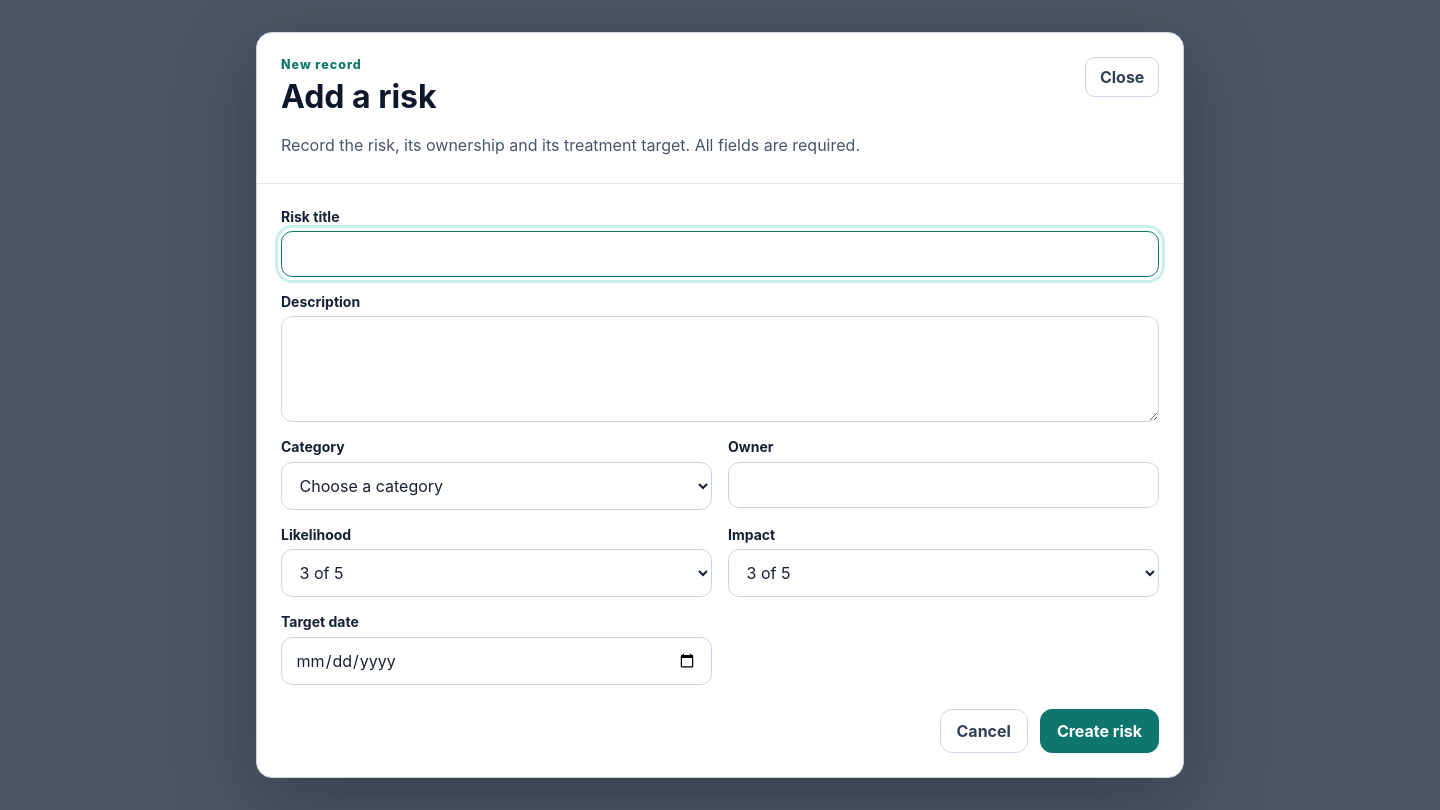
Scenario: RiskCreateDialog › reports invalid fields and focuses the first one
Click the button "Create risk": click(1099, 731) [1040, 709, 1159, 753]
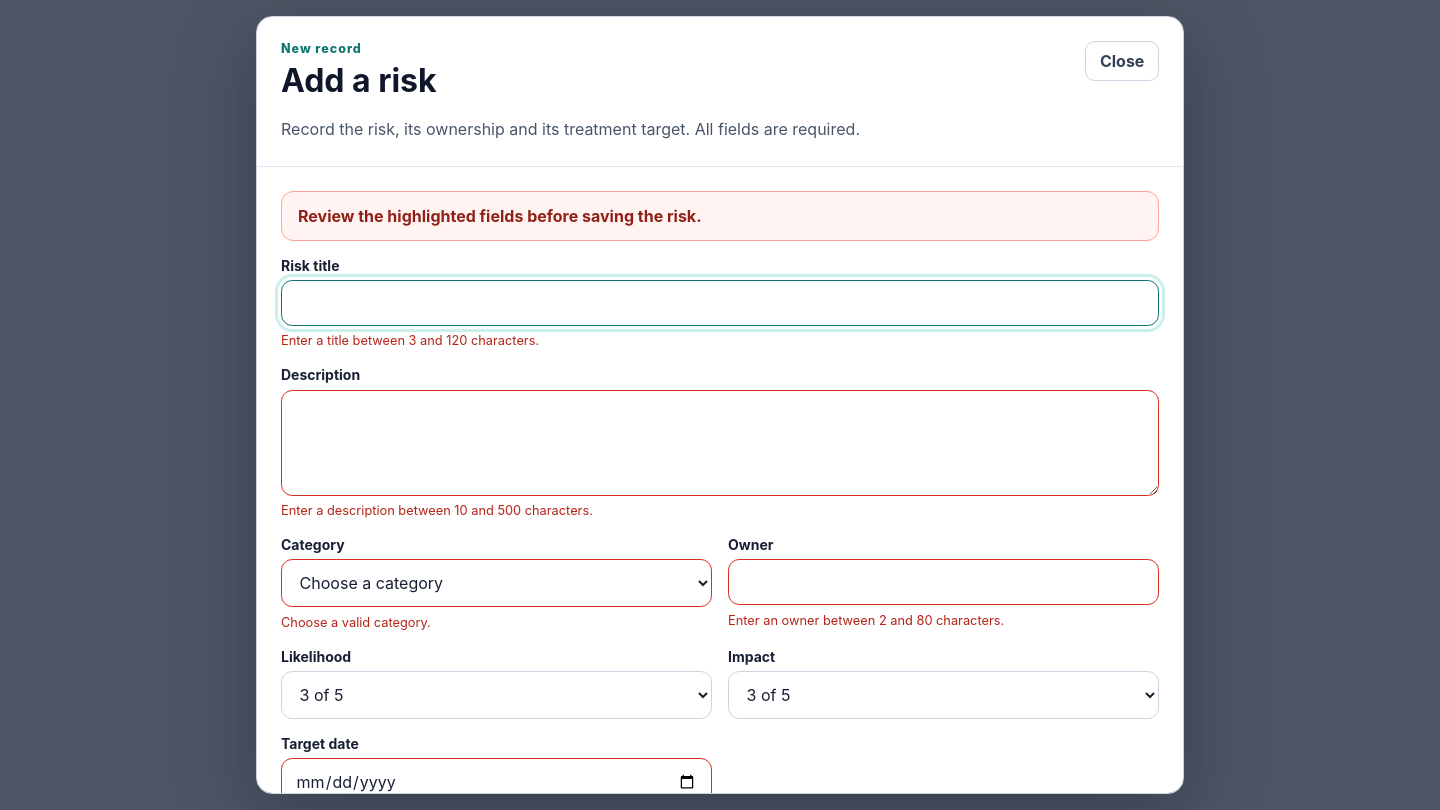
Now the message shows "Review the highlighted fields", box [298, 206, 702, 226]
